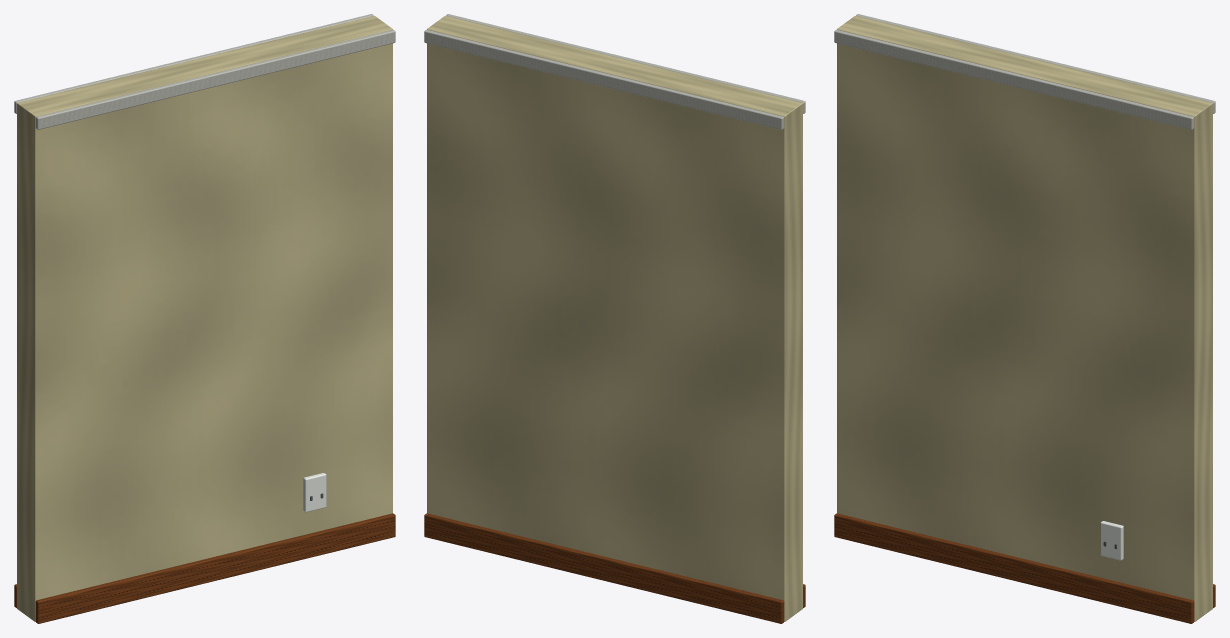
File: three-d-liminal-spaces-kit-liminal-spaces-kit-wall-outlet-0e6c117e.glb
The picture shows the model from 3 angles, left to right: view 1: azimuth 30°, elevation 25°; view 2: azimuth 150°, elevation 25°; view 3: azimuth 330°, elevation 25°; orthographic projection.
Visible parts, largest first — view 1: wall-outlet; view 2: wall-outlet; view 3: wall-outlet.
Boxes of the visible parts, left/top/right/bottom form: wall-outlet: left=14, top=14, right=395, bottom=623; wall-outlet: left=424, top=14, right=805, bottom=623; wall-outlet: left=834, top=14, right=1215, bottom=623.
Size of the model in its own units: 2 by 2.7 by 0.2475.
5 materials, 3 textured.
